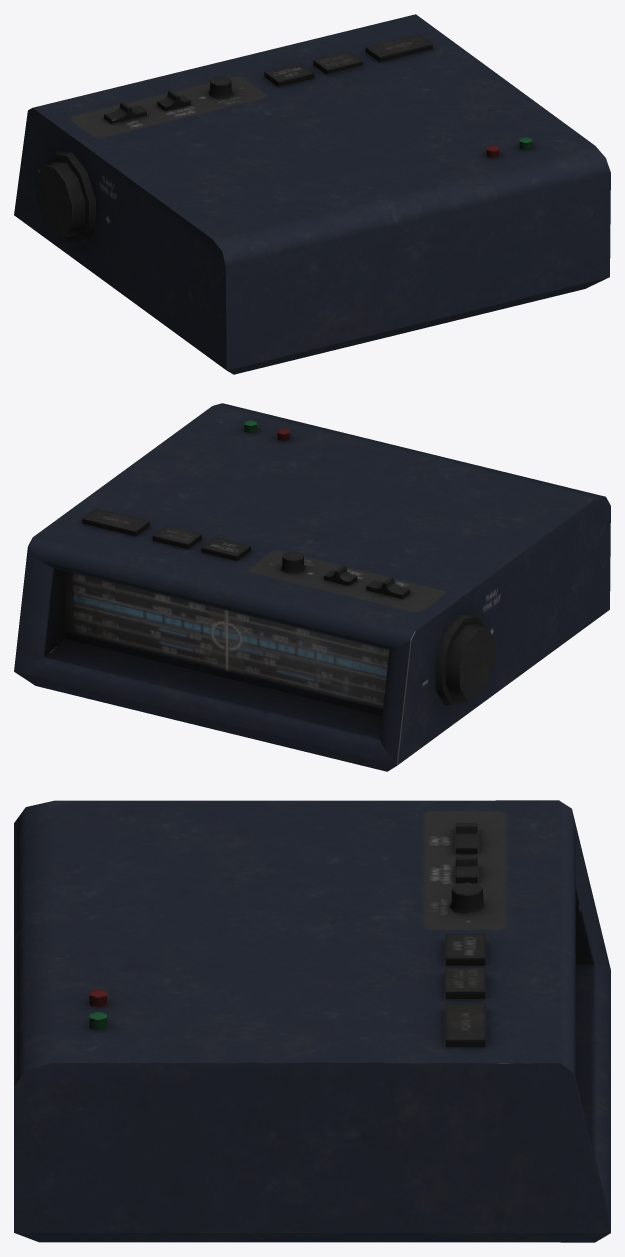
File: Alarm_Clock_03.fbx
The picture shows the model from 3 angles, top to bottom: view 1: azimuth 30°, elevation 25°; view 2: azimuth 150°, elevation 25°; view 3: azimuth 270°, elevation 25°; orthographic projection. The views are drawn at different scales.
Parts seen in each view (by area): view 1: Alarm_Clock; view 2: Alarm_Clock; view 3: Alarm_Clock.
Boxes of the visible parts, box(x1,y1,x2,y2) form: Alarm_Clock: box(14, 14, 610, 374); Alarm_Clock: box(14, 403, 610, 771); Alarm_Clock: box(14, 800, 610, 1242).
Size of the model in its own units: 16.22 by 5.68 by 14.76.
Materials: 1 (1 with a texture image).
